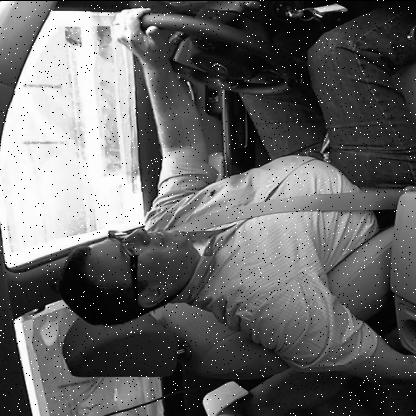seatbelt: (44, 180, 318, 338)
